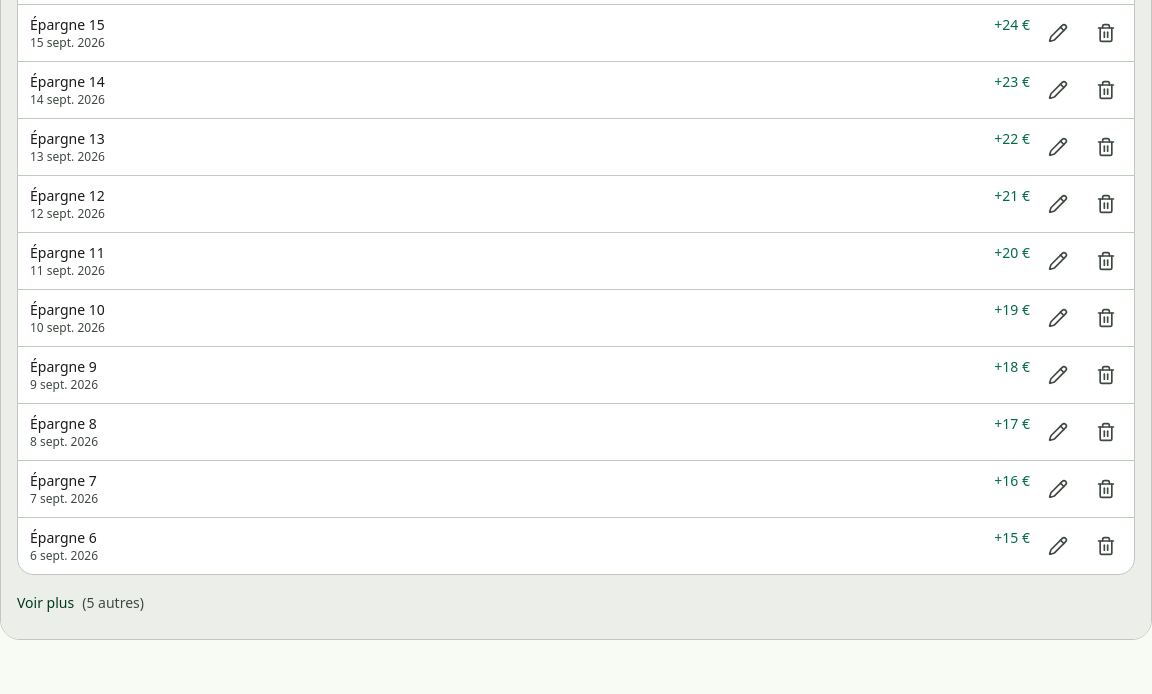
Test: Mes comptes : mouvements d’un compte › lignes sur deux niveaux (date courte), 20 d’abord puis « Voir plus », sans zone défilante
The image size is (1152, 694).
(page scrolled)
Click the button "Voir plus (5 autres)": (80, 603) [5,583,156,623]
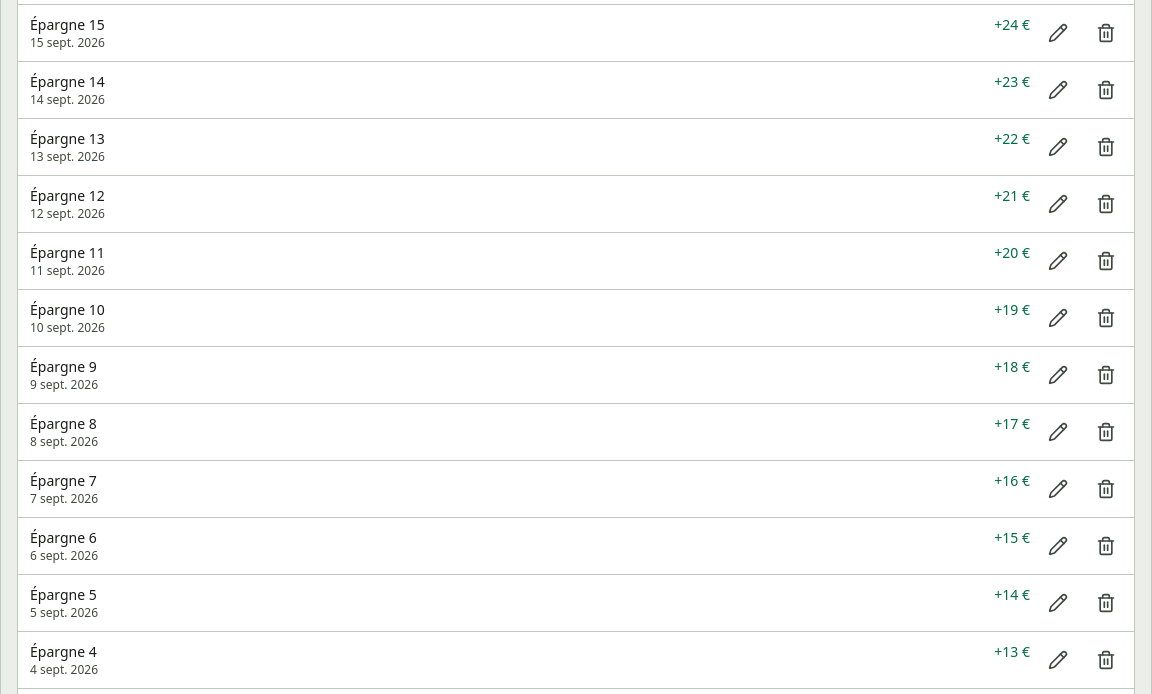
Result: the button "Voir plus" is gone
